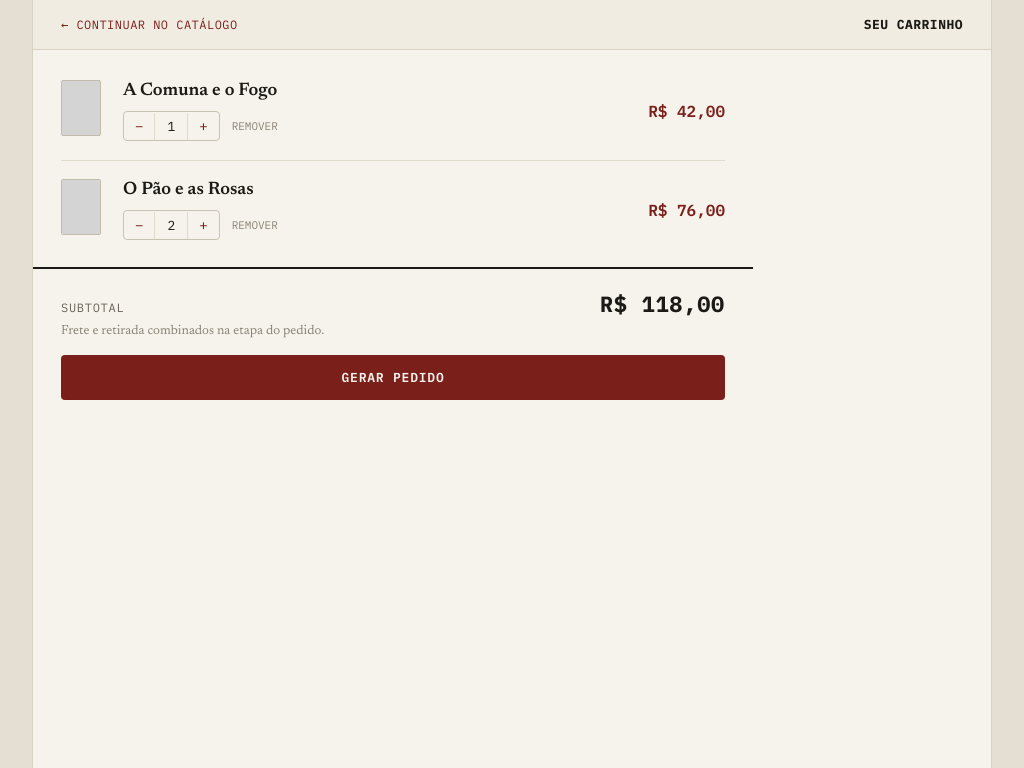
Carrinho › remover tira o item da lista
Step 1. Click the button "Remover" below "A Comuna e o Fogo" → click(255, 126), box [232,119,278,133]
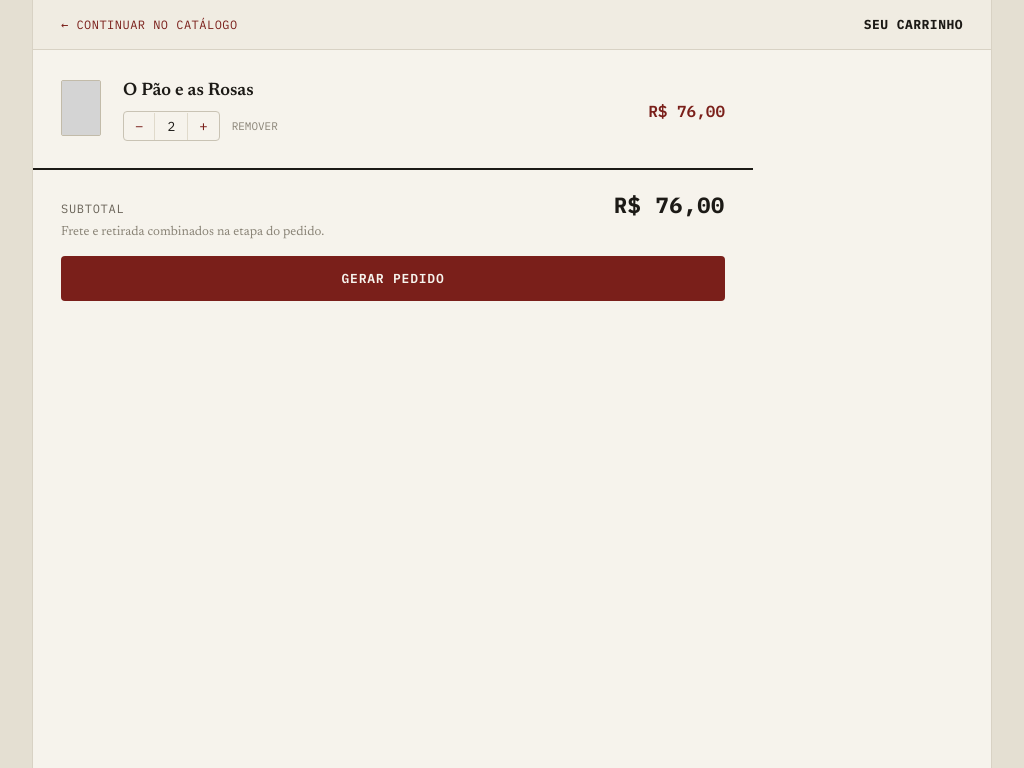
Check: the text "A Comuna e o Fogo" is gone
